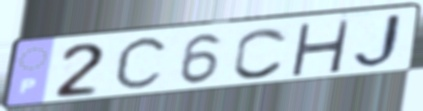2: (53, 41, 109, 100)
6: (178, 31, 225, 86)
C: (110, 33, 172, 96), (230, 26, 291, 81)
H: (287, 19, 353, 77)
J: (350, 11, 411, 72)
